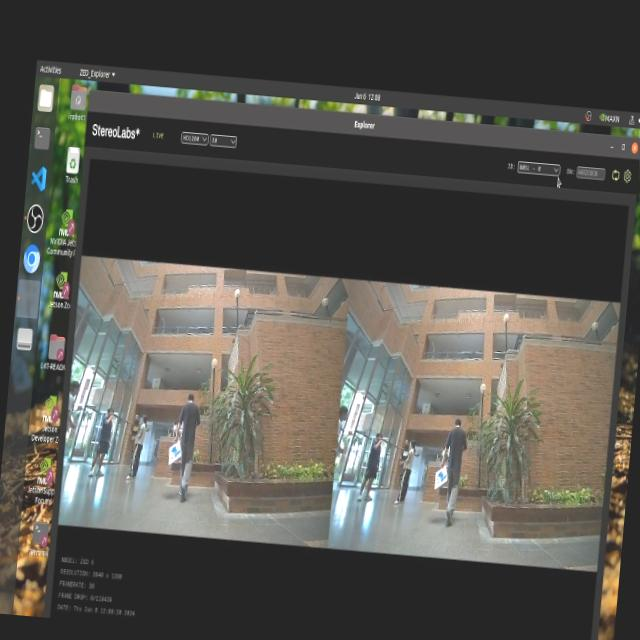blue: (434, 469, 451, 494), (168, 432, 180, 462)
